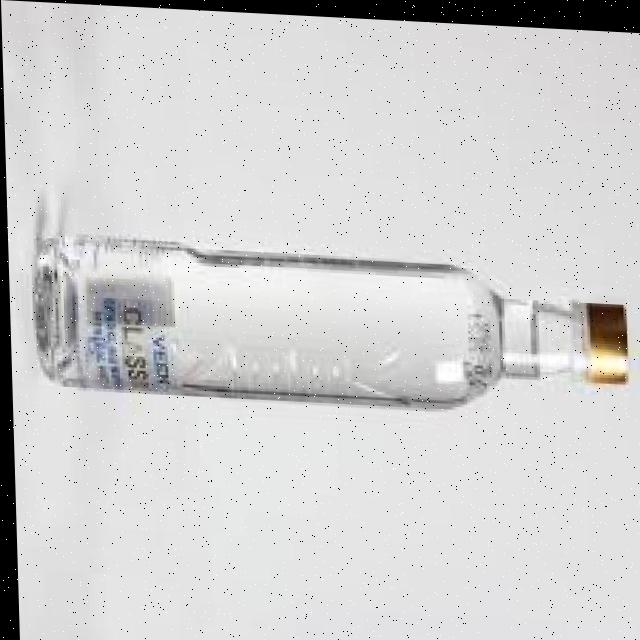bottle: (32, 210, 640, 453)
